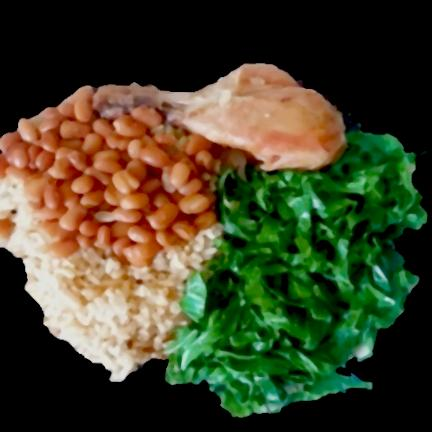beans: (0, 94, 216, 266)
chicken: (94, 63, 346, 171)
rice: (0, 177, 221, 381)
salad: (168, 131, 427, 416)
